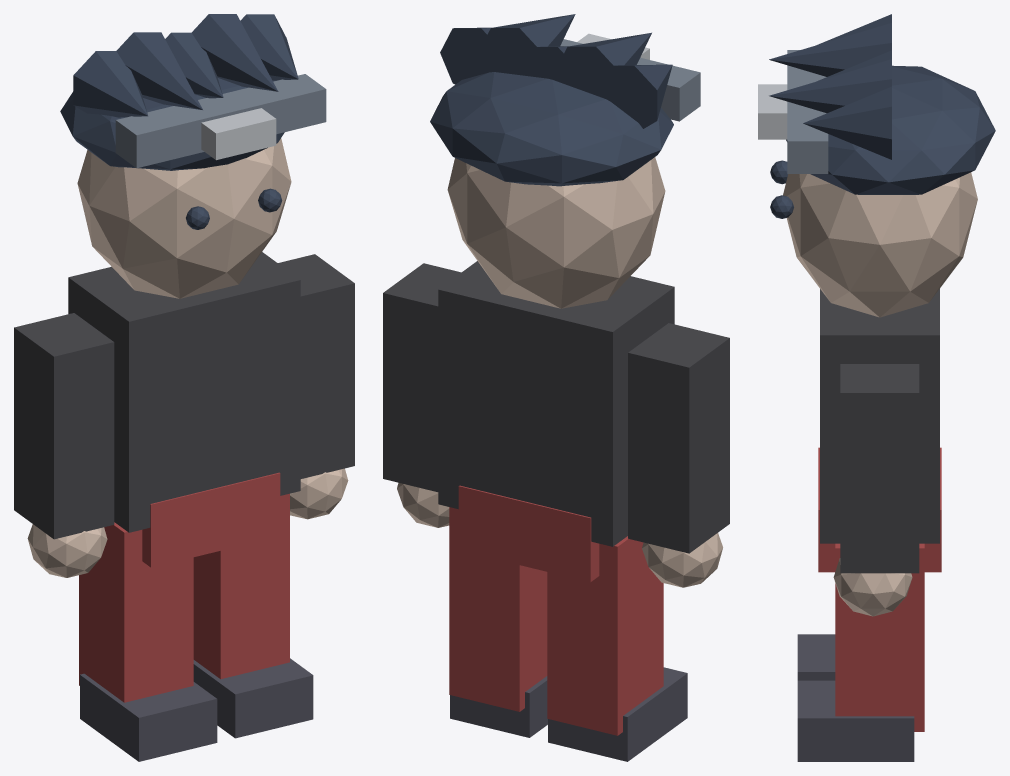
File: itachi.glb
3 views of the same model, side by side, from view 1: azimuth 30°, elevation 25°; view 2: azimuth 150°, elevation 25°; view 3: azimuth 270°, elevation 25° (orthographic). The views are drawn at different scales.
Visible parts, largest first — view 1: part_000, part_010, part_002, part_004, part_008, part_006, part_001, part_019, part_005, part_009, part_013, part_015 (+7 smaller); view 2: part_000, part_010, part_002, part_013, part_004, part_008, part_006, part_001, part_005, part_015, part_017, part_014 (+6 smaller); view 3: part_010, part_006, part_000, part_013, part_008, part_009, part_018, part_015, part_017, part_019, part_007, part_005 (+3 smaller).
Part boxes in pixels (box(x1,y1,x2,y2)): part_000: box(68, 252, 300, 532); part_010: box(77, 138, 291, 298); part_002: box(14, 313, 114, 539); part_004: box(79, 522, 193, 702); part_008: box(193, 493, 289, 679); part_006: box(278, 254, 354, 478); part_001: box(142, 472, 280, 567); part_019: box(115, 74, 326, 168); part_005: box(80, 673, 217, 761); part_009: box(193, 658, 313, 738); part_013: box(60, 78, 284, 170); part_015: box(116, 32, 202, 109); part_000: box(438, 261, 674, 546); part_010: box(447, 157, 665, 308); part_002: box(628, 323, 729, 553); part_013: box(430, 72, 673, 186); part_004: box(547, 536, 663, 735); part_008: box(449, 507, 547, 711); part_006: box(383, 263, 461, 492); part_001: box(458, 485, 599, 582); part_005: box(548, 667, 687, 761); part_015: box(555, 32, 651, 101); part_017: box(478, 14, 575, 77); part_014: box(593, 64, 672, 128); part_010: box(783, 172, 977, 317); part_006: box(840, 364, 919, 573); part_000: box(820, 289, 939, 543); part_013: box(786, 65, 995, 194); part_008: box(835, 543, 924, 731); part_009: box(797, 680, 914, 761); part_018: box(803, 86, 891, 159); part_015: box(769, 23, 891, 76); part_017: box(769, 59, 891, 113); part_019: box(787, 50, 828, 173); part_007: box(833, 558, 912, 616); part_005: box(797, 634, 835, 680).
Size of the model in its own units: 1.03 by 2.17 by 0.6928.
